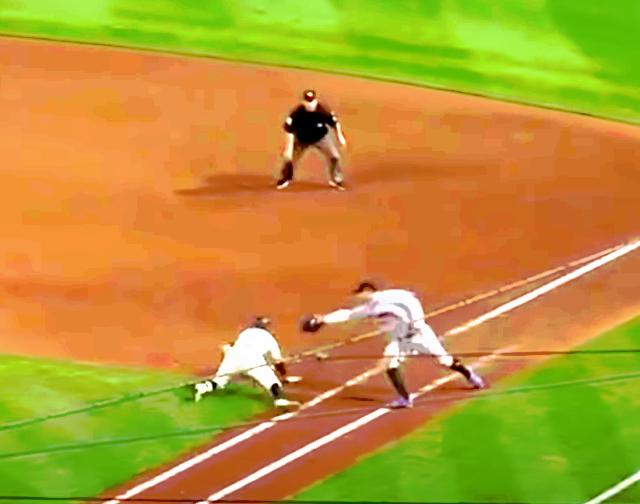jatuh: (182, 310, 304, 416)
